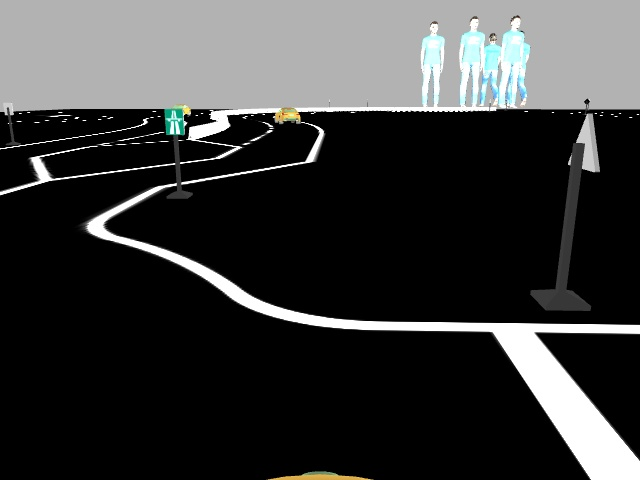HighwayEntrance: (160, 107, 187, 140)
